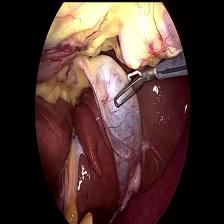Grasper: (102, 57, 154, 108)
